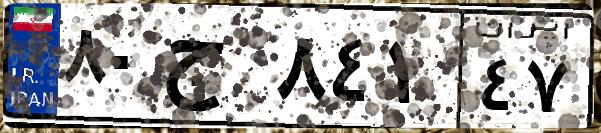0: (110, 28, 158, 98)
1: (385, 28, 445, 110)
4: (330, 28, 385, 110), (475, 38, 525, 113)
7: (525, 38, 570, 115)
8: (270, 28, 330, 110), (57, 26, 110, 100)
ج: (158, 20, 270, 120)
